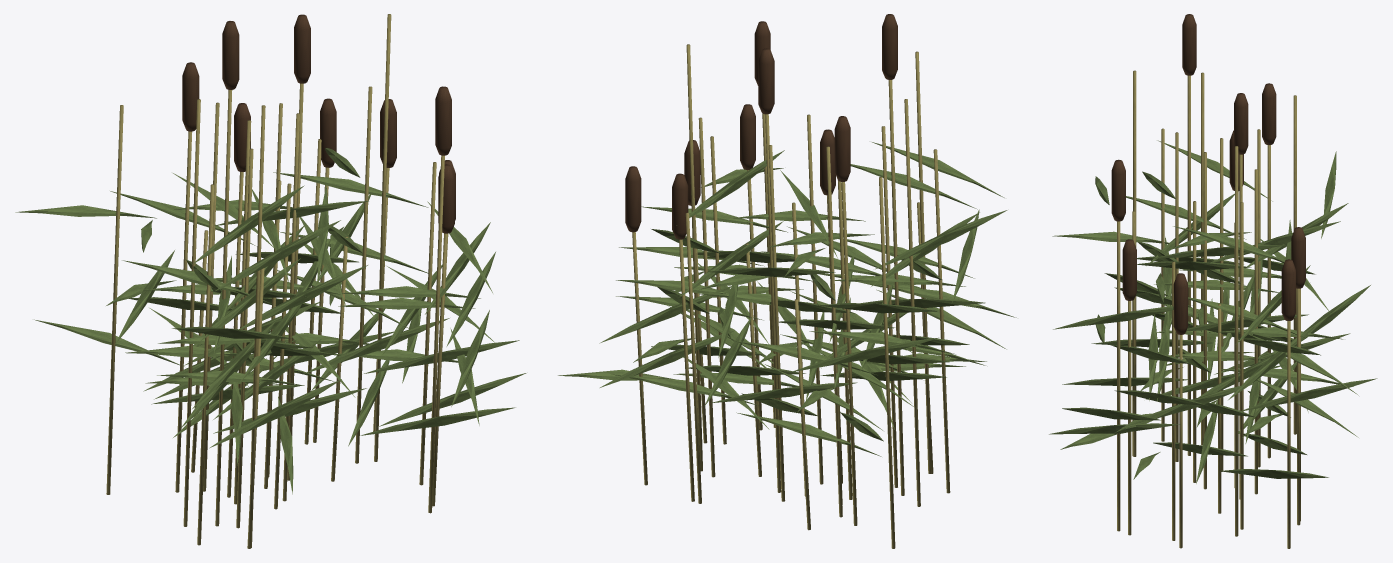
File: reeds_cattails.glb
The picture shows the model from 3 angles, left to right: view 1: azimuth 30°, elevation 25°; view 2: azimuth 150°, elevation 25°; view 3: azimuth 270°, elevation 25°; orthographic projection. The views are drawn at different scales.
Visible parts, largest first — view 1: reeds_cattails_Mesh; view 2: reeds_cattails_Mesh; view 3: reeds_cattails_Mesh.
Boxes of the visible parts, left/top/right/bottom form: reeds_cattails_Mesh: left=15, top=14, right=526, bottom=548; reeds_cattails_Mesh: left=558, top=14, right=1016, bottom=548; reeds_cattails_Mesh: left=1049, top=14, right=1377, bottom=548.
Bounding box in the file's own units: 1.51 × 1.76 × 1.19.
Materials: 3 (3 with a texture image).
